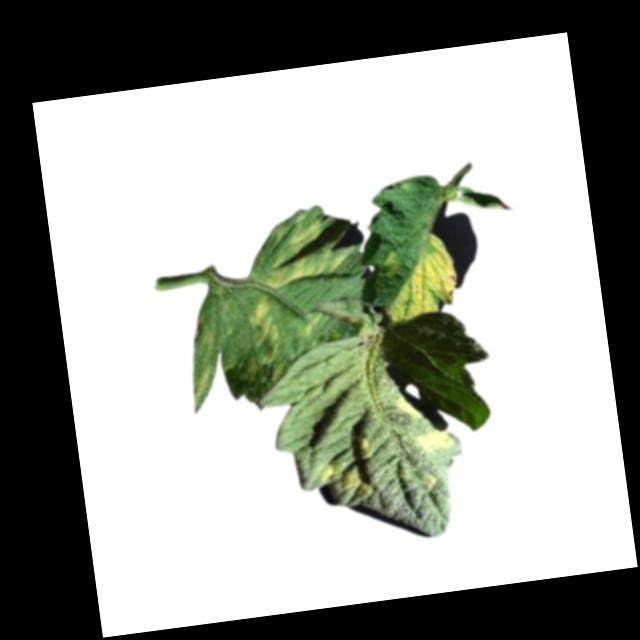Leaf_Mold: (381, 232, 463, 324), (256, 216, 351, 293), (245, 292, 287, 365), (410, 427, 457, 460), (342, 463, 373, 497), (316, 463, 336, 486)
